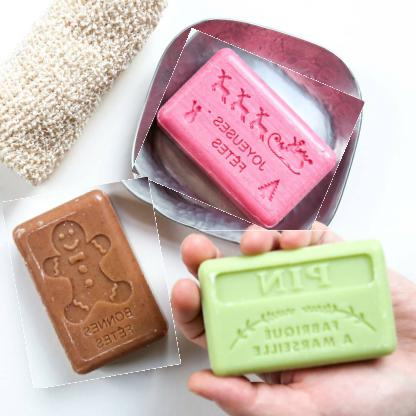soap: (142, 43, 354, 230), (10, 183, 174, 384), (198, 230, 396, 383)
